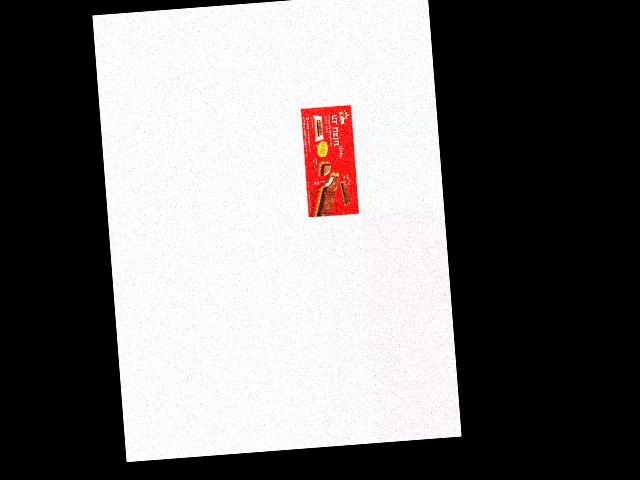chocolate: (299, 102, 359, 218)
